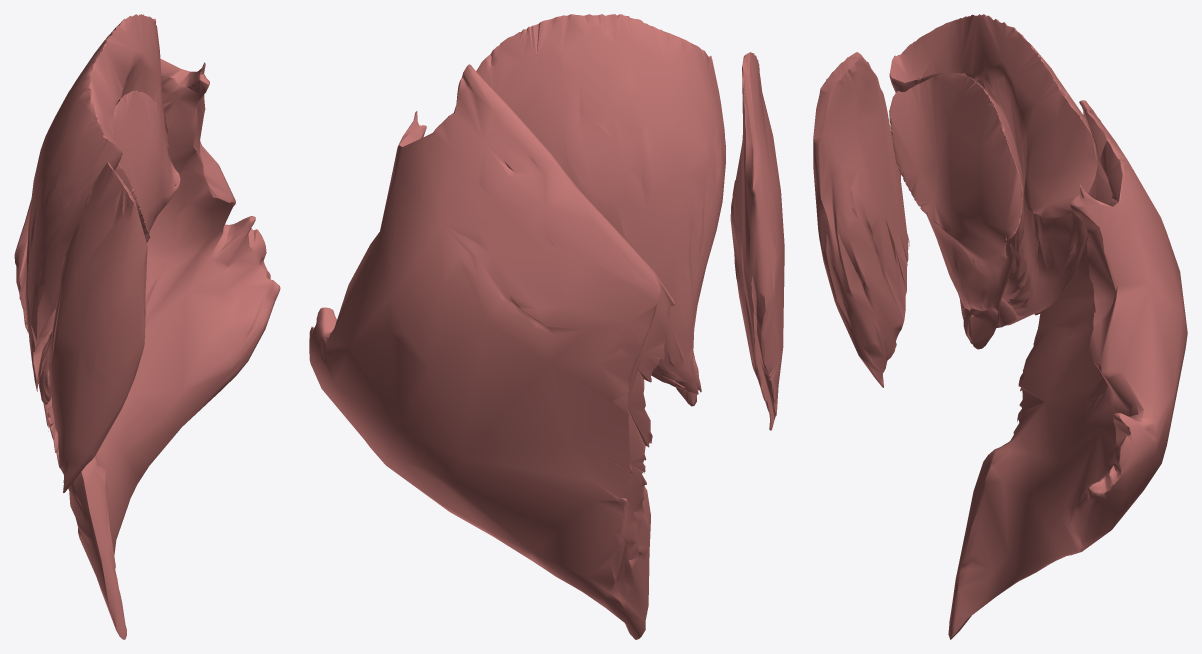
File: muscular-gluteal-right.glb
3 views of the same model, side by side, from view 1: azimuth 30°, elevation 25°; view 2: azimuth 150°, elevation 25°; view 3: azimuth 270°, elevation 25° (orthographic). The views are drawn at different scales.
Parts seen in each view (by area): view 1: bp3d_FMA22328_FJ1418, bp3d_FMA22425_FJ1438, bp3d_FMA22330_FJ1419, bp3d_FMA22332_FJ1420; view 2: bp3d_FMA22328_FJ1418, bp3d_FMA22330_FJ1419, bp3d_FMA22425_FJ1438; view 3: bp3d_FMA22328_FJ1418, bp3d_FMA22330_FJ1419, bp3d_FMA22332_FJ1420, bp3d_FMA22425_FJ1438.
Boxes of the visible parts, x1,y1,x2,y2 form: bp3d_FMA22328_FJ1418: (14,19,280,639); bp3d_FMA22425_FJ1438: (48,162,147,492); bp3d_FMA22330_FJ1419: (25,14,168,391); bp3d_FMA22332_FJ1420: (38,90,180,405); bp3d_FMA22328_FJ1418: (309,64,674,639); bp3d_FMA22330_FJ1419: (476,14,725,394); bp3d_FMA22425_FJ1438: (730,52,784,430); bp3d_FMA22328_FJ1418: (948,100,1187,639); bp3d_FMA22330_FJ1419: (889,14,1097,327); bp3d_FMA22332_FJ1420: (889,73,1024,349); bp3d_FMA22425_FJ1438: (813,52,909,387).
Size of the model in its own units: 0.1616 by 0.2832 by 0.1532.
